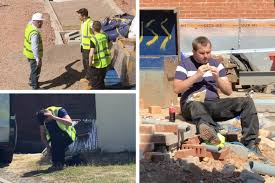vest: (38, 118, 75, 154), (90, 38, 115, 70), (24, 26, 42, 59), (78, 22, 92, 52)
